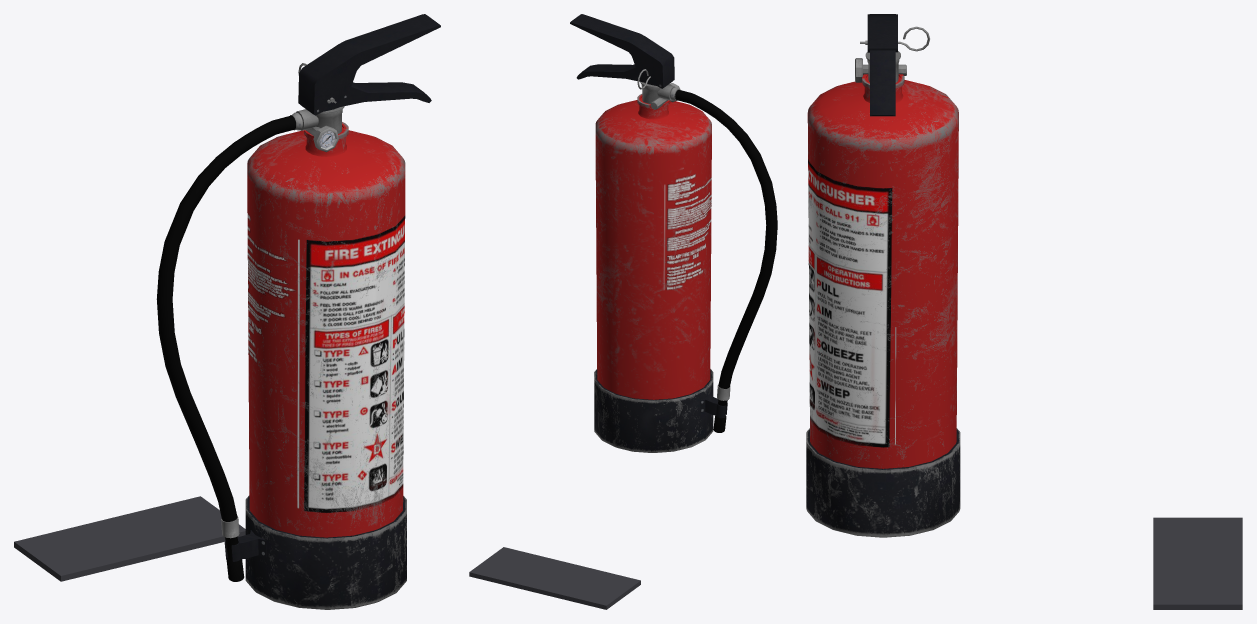
The model's file is extinguisher-co2.glb.
3 views of the same model, side by side, from view 1: azimuth 30°, elevation 25°; view 2: azimuth 150°, elevation 25°; view 3: azimuth 270°, elevation 25° (orthographic). The views are drawn at different scales.
Parts seen in each view (by area): view 1: Fire_Extinguisher, Type colour band; view 2: Fire_Extinguisher, Type colour band; view 3: Fire_Extinguisher, Type colour band.
Boxes of the visible parts, left/top/right/bottom form: Fire_Extinguisher: left=156, top=14, right=440, bottom=609; Type colour band: left=14, top=496, right=245, bottom=581; Fire_Extinguisher: left=570, top=14, right=777, bottom=452; Type colour band: left=469, top=547, right=640, bottom=609; Fire_Extinguisher: left=806, top=14, right=960, bottom=537; Type colour band: left=1153, top=517, right=1242, bottom=609.
Bounding box in the file's own units: 0.4004 × 0.8526 × 0.5778.
Materials: 3 (1 with a texture image).
